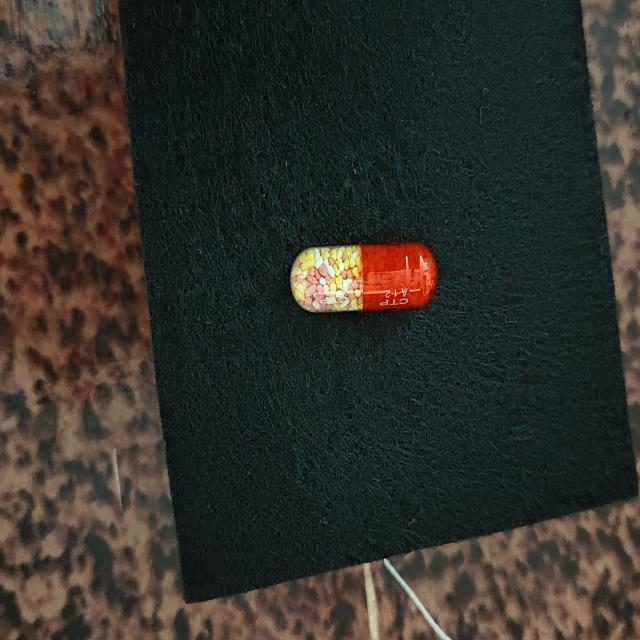Intact Capsule: (290, 242, 437, 312)
